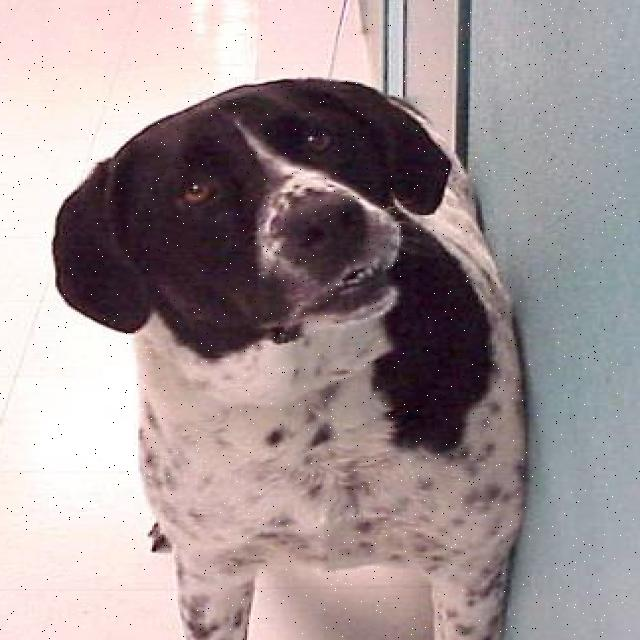Dog: (46, 69, 465, 340)
